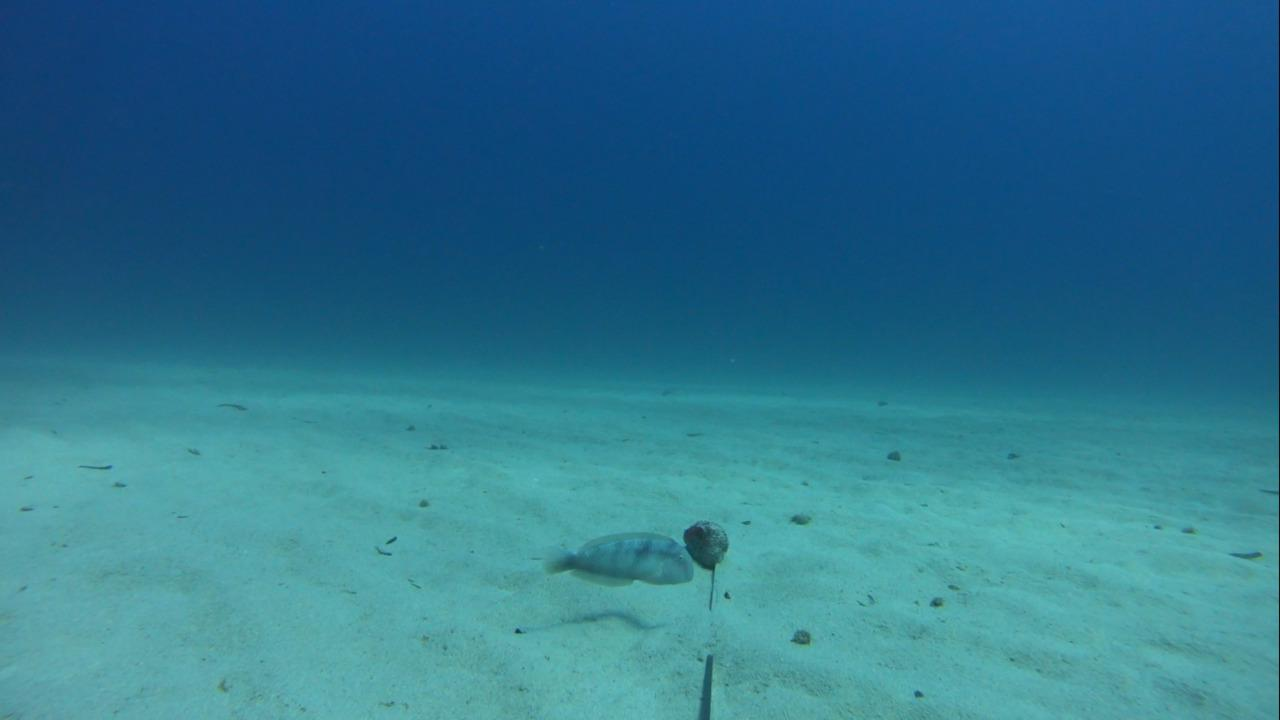raor: (537, 528, 698, 592)
